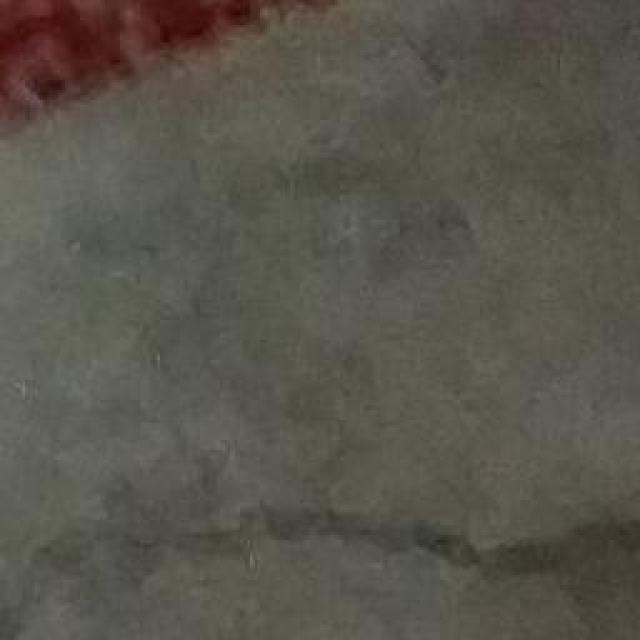Transverse: (7, 462, 640, 610)
